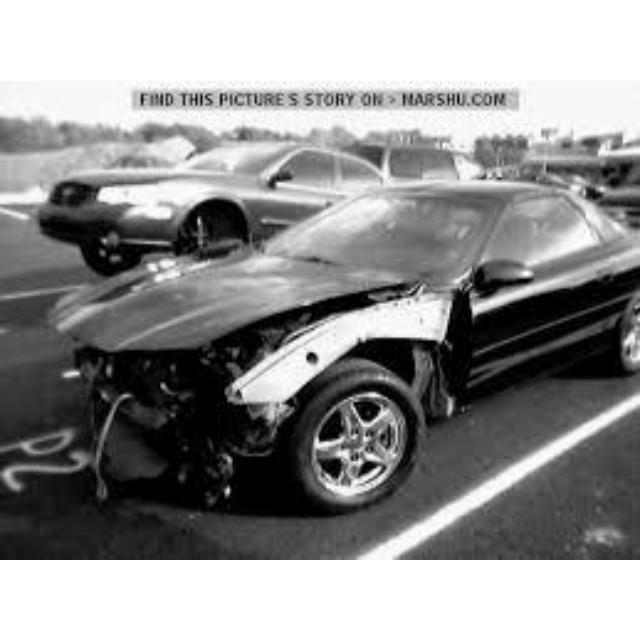Headlight-damage: (155, 334, 264, 395)
bonnet-dent: (85, 251, 346, 342)
fender-dent: (274, 293, 449, 364)
front-bumper-dent: (84, 360, 164, 492), (152, 404, 278, 470)
